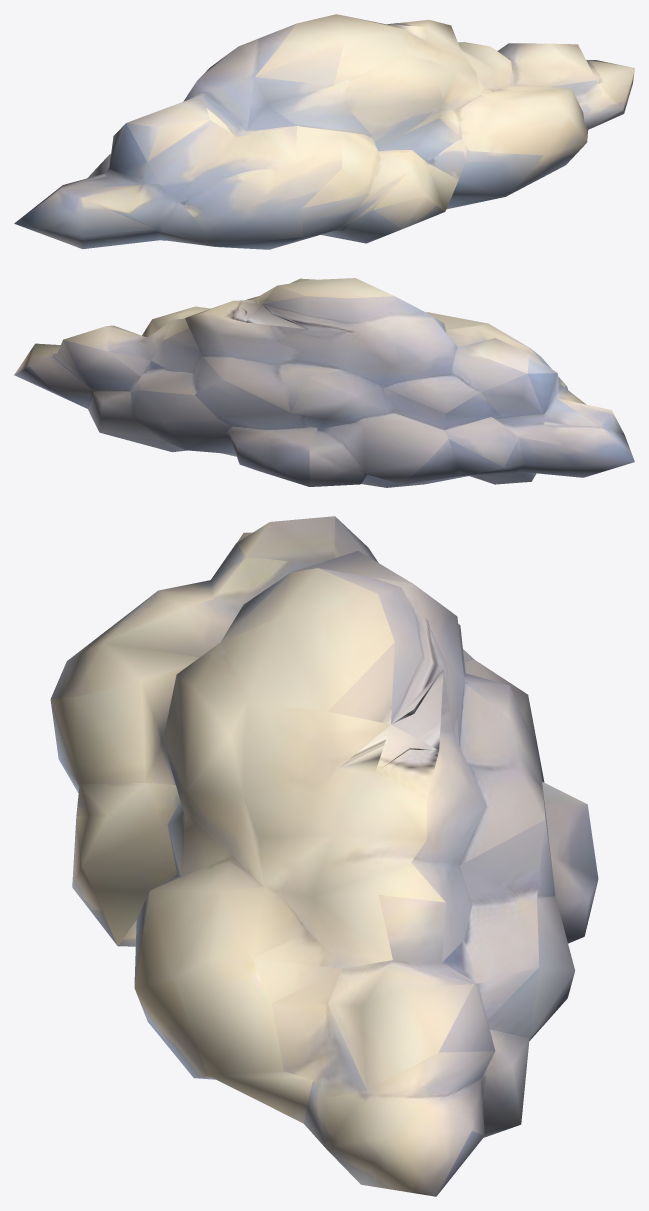
File: cloud.glb
3 views of the same model, one above another, from view 1: azimuth 30°, elevation 25°; view 2: azimuth 150°, elevation 25°; view 3: azimuth 270°, elevation 25° (orthographic). The views are drawn at different scales.
Parts seen in each view (by area): view 1: CloudMesh; view 2: CloudMesh; view 3: CloudMesh.
Part boxes in pixels (box(x1,y1,x2,y2)): CloudMesh: box(14, 14, 634, 249); CloudMesh: box(14, 278, 634, 487); CloudMesh: box(50, 516, 598, 1196).
Bounding box in the file's own units: 9 × 2.52 × 3.6.
1 material, 1 textured.
